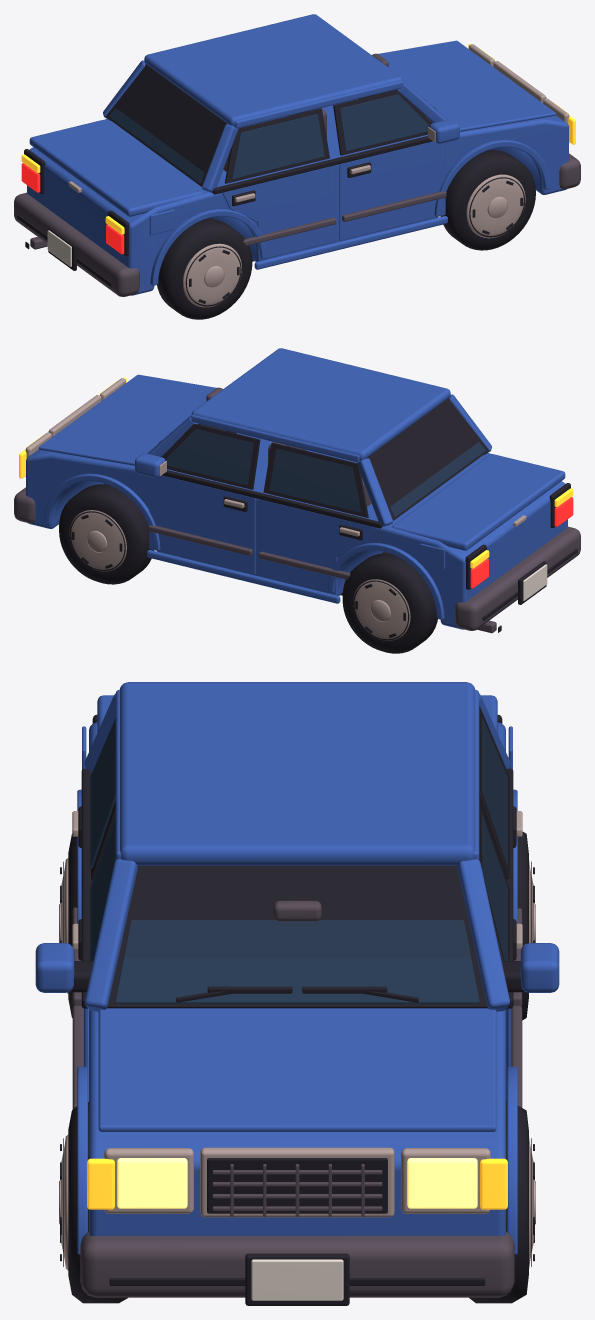
3 renders of one model, top to bottom at view 1: azimuth 30°, elevation 25°; view 2: azimuth 150°, elevation 25°; view 3: azimuth 270°, elevation 25°, orthographic. The views are drawn at different scales.
Visible parts, largest first — view 1: body_policeBlue, body_uiDark, doorL_policeBlue, doorRearL_policeBlue, wheelRL_uiDark, wheelFL_uiDark, body_asphalt, doorRearL_backpackTeal, doorL_backpackTeal, wheelFL_sidewalk, wheelRL_sidewalk, doorRearL_uiDark (+7 smaller); view 2: body_policeBlue, body_uiDark, doorR_policeBlue, doorRearR_policeBlue, doorRearR_uiDark, wheelRR_uiDark, wheelFR_uiDark, body_asphalt, doorR_uiDark, doorRearR_backpackTeal, doorR_backpackTeal, wheelFR_sidewalk (+7 smaller); view 3: body_policeBlue, body_uiDark, body_backpackTeal, body_asphalt, body_sidewalk, lightsFront_windowGlow, body_picketWhite, doorRearR_uiDark, doorR_uiDark, wheelFR_uiDark, lightsFront_schoolBusYellow, wheelFL_uiDark (+11 smaller).
Boxes of the visible parts, bbox=[...] form: body_policeBlue: bbox=[27, 14, 568, 295]; body_uiDark: bbox=[17, 63, 546, 286]; doorL_policeBlue: bbox=[339, 119, 459, 240]; doorRearL_policeBlue: bbox=[222, 165, 335, 260]; wheelRL_uiDark: bbox=[157, 219, 252, 319]; wheelFL_uiDark: bbox=[440, 150, 535, 250]; body_asphalt: bbox=[14, 53, 580, 296]; doorRearL_backpackTeal: bbox=[232, 114, 324, 179]; doorL_backpackTeal: bbox=[339, 94, 429, 151]; wheelFL_sidewalk: bbox=[466, 174, 525, 238]; wheelRL_sidewalk: bbox=[183, 243, 241, 307]; doorRearL_uiDark: bbox=[225, 108, 329, 206]; body_policeBlue: bbox=[26, 348, 567, 629]; body_uiDark: bbox=[48, 397, 577, 632]; doorR_policeBlue: bbox=[135, 453, 255, 574]; doorRearR_policeBlue: bbox=[259, 499, 372, 594]; doorRearR_uiDark: bbox=[263, 442, 368, 540]; wheelRR_uiDark: bbox=[342, 553, 437, 653]; wheelFR_uiDark: bbox=[59, 484, 154, 584]; body_asphalt: bbox=[14, 387, 580, 633]; doorR_uiDark: bbox=[162, 423, 260, 511]; doorRearR_backpackTeal: bbox=[269, 448, 361, 512]; doorR_backpackTeal: bbox=[165, 429, 253, 484]; wheelFR_sidewalk: bbox=[69, 510, 126, 571]; body_policeBlue: bbox=[77, 682, 517, 1254]; body_uiDark: bbox=[81, 714, 513, 1305]; body_backpackTeal: bbox=[115, 920, 479, 1003]; body_asphalt: bbox=[80, 900, 514, 1297]; body_sidewalk: bbox=[104, 1147, 490, 1217]; lightsFront_windowGlow: bbox=[117, 1158, 477, 1208]; body_picketWhite: bbox=[251, 1259, 343, 1300]; doorRearR_uiDark: bbox=[479, 706, 516, 879]; doorR_uiDark: bbox=[479, 802, 525, 992]; wheelFR_uiDark: bbox=[469, 1102, 534, 1303]; lightsFront_schoolBusYellow: bbox=[87, 1158, 507, 1209]; wheelFL_uiDark: bbox=[60, 1102, 127, 1303].
Bounding box in the file's own units: 4.54 × 1.68 × 2.16.
